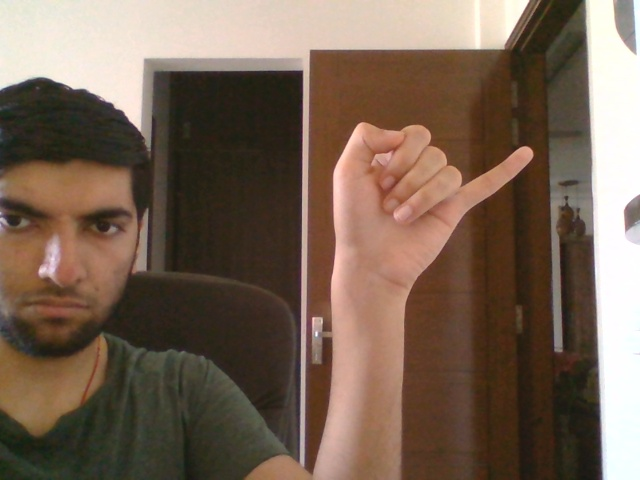LetterJ: (331, 120, 535, 297)
